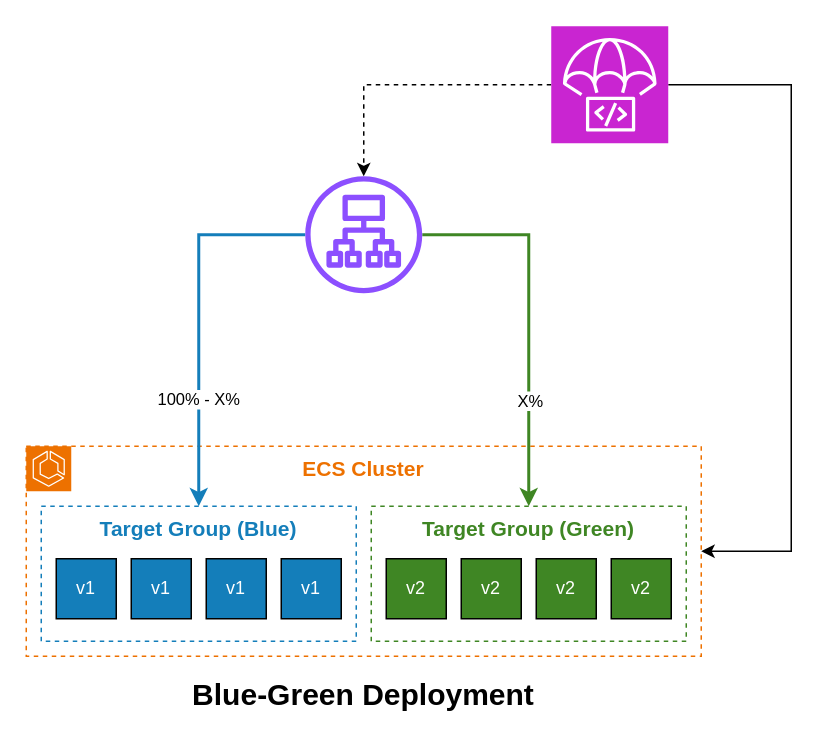
The diagram is 830 pixels wide and 738 high, and some of its shapes have lost their labels. The shapes that lost their labels are listed below. From the top down, each one's centre as x and y in pixels, then its label:
At pixel 609 84: "CodeDeploy".
At pixel 363 234: "Application Load Balancer (required)".
